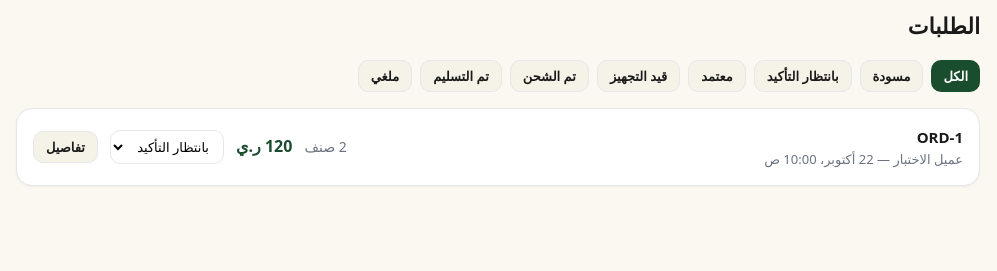
Test case: admin order status transition UI › surfaces a database transition denial and does not display a false success state
Select "معتمد" in the dropdown named "حالة الطلب ORD-1" at (167, 147), box [110,130,224,164]
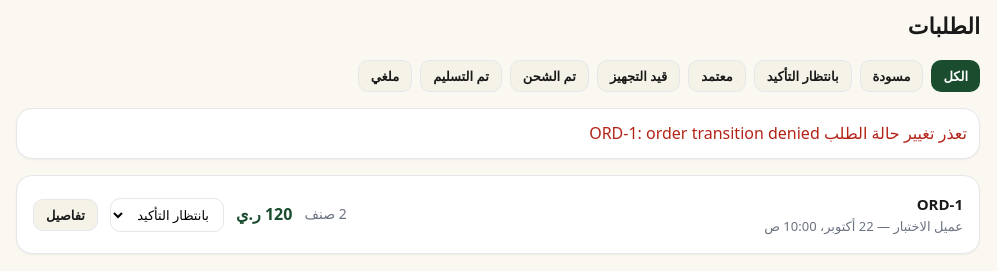
Result: the message reads "تعذر تغيير حالة الطلب ORD-1: order transition denied" at [589,122,967,144]
